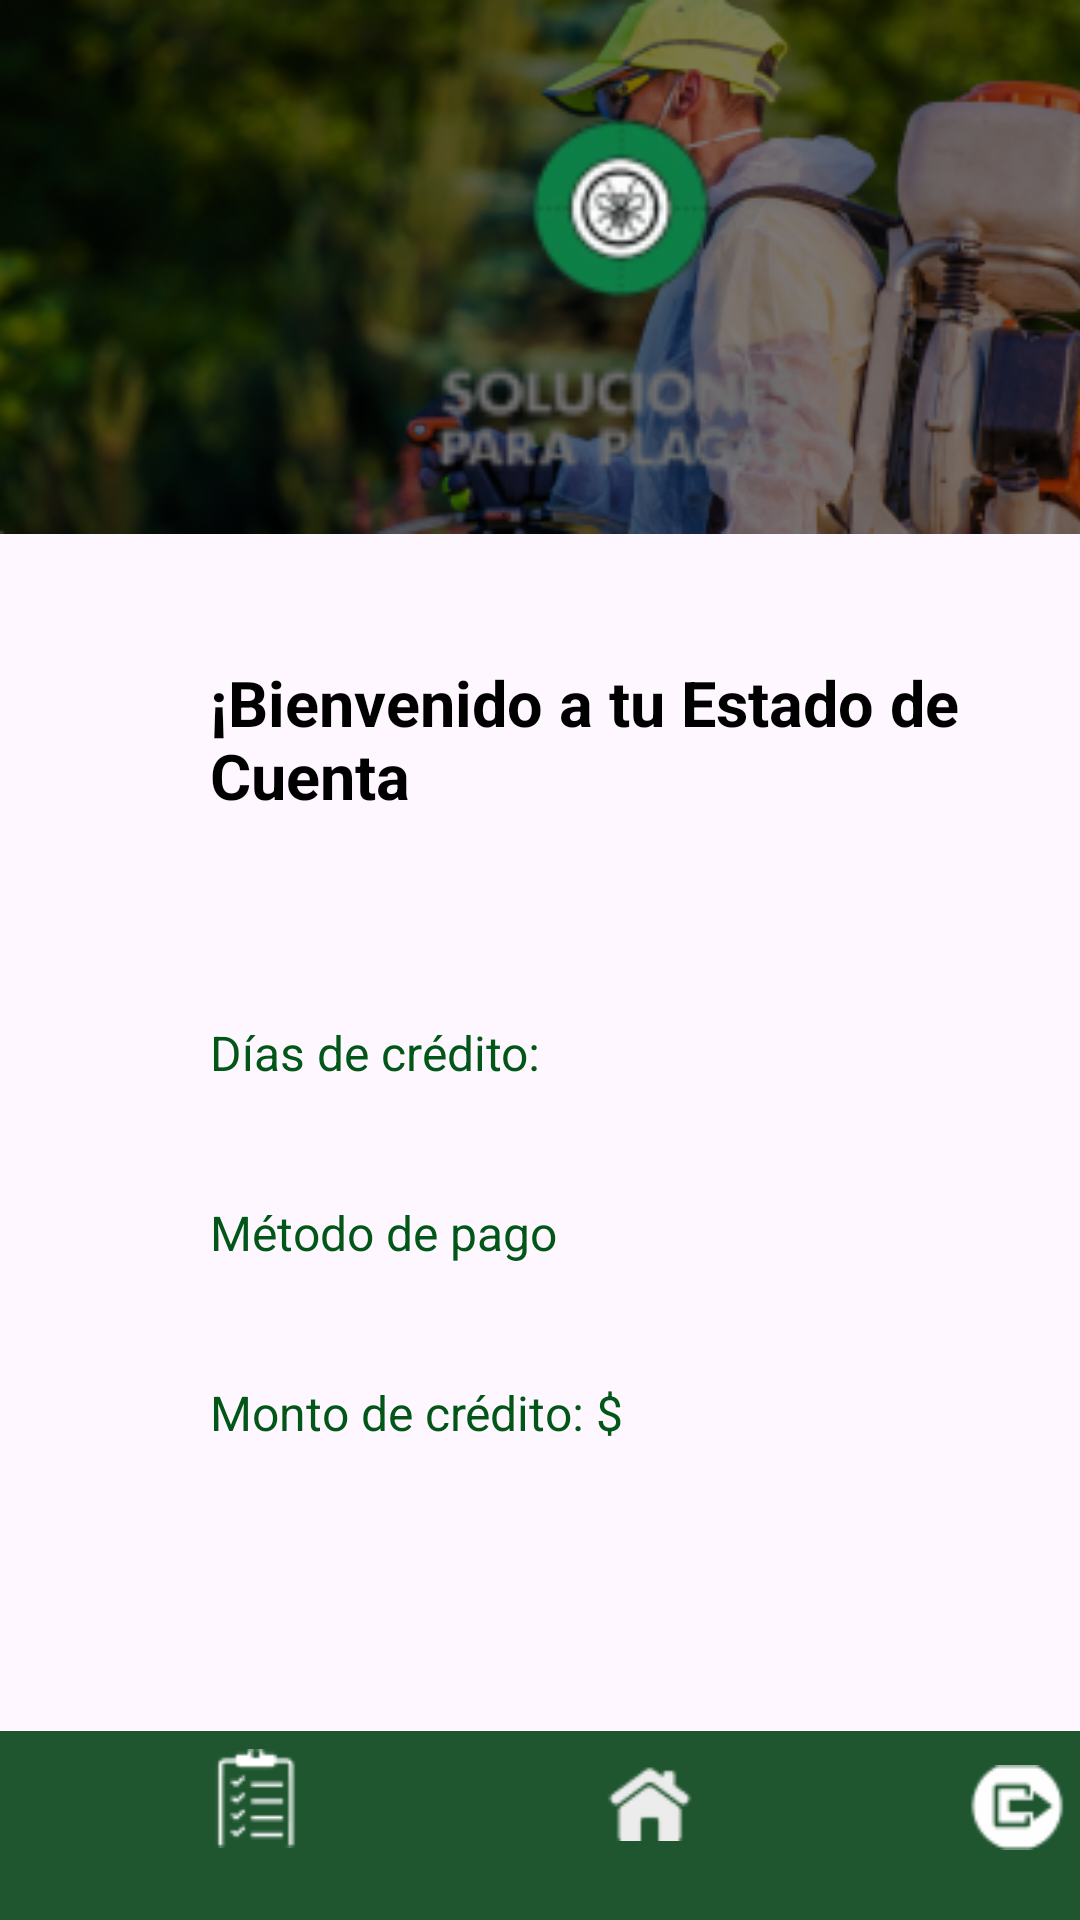

Named icons in this screenshot (1080 x 1920) and their bounding boxes, (x1, y1, x2, y2):
iconocerrarsesion: (971, 1765, 1063, 1850)
